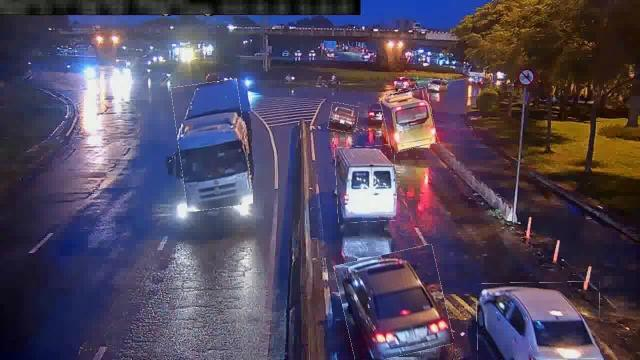Bus: (336, 146, 396, 222), (382, 89, 436, 151)
Car: (338, 249, 449, 359), (476, 283, 600, 360), (329, 103, 358, 132), (428, 79, 448, 89)
Truck: (175, 80, 249, 210)
